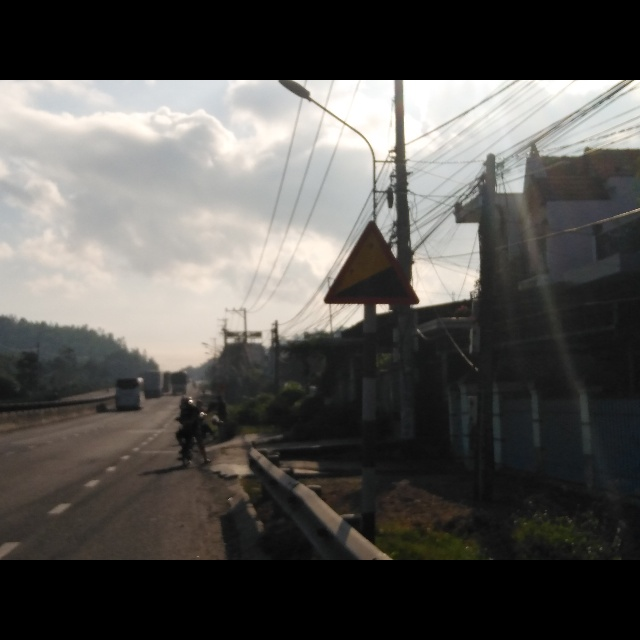Dốc lên nguy hiểm: (324, 215, 420, 306)
